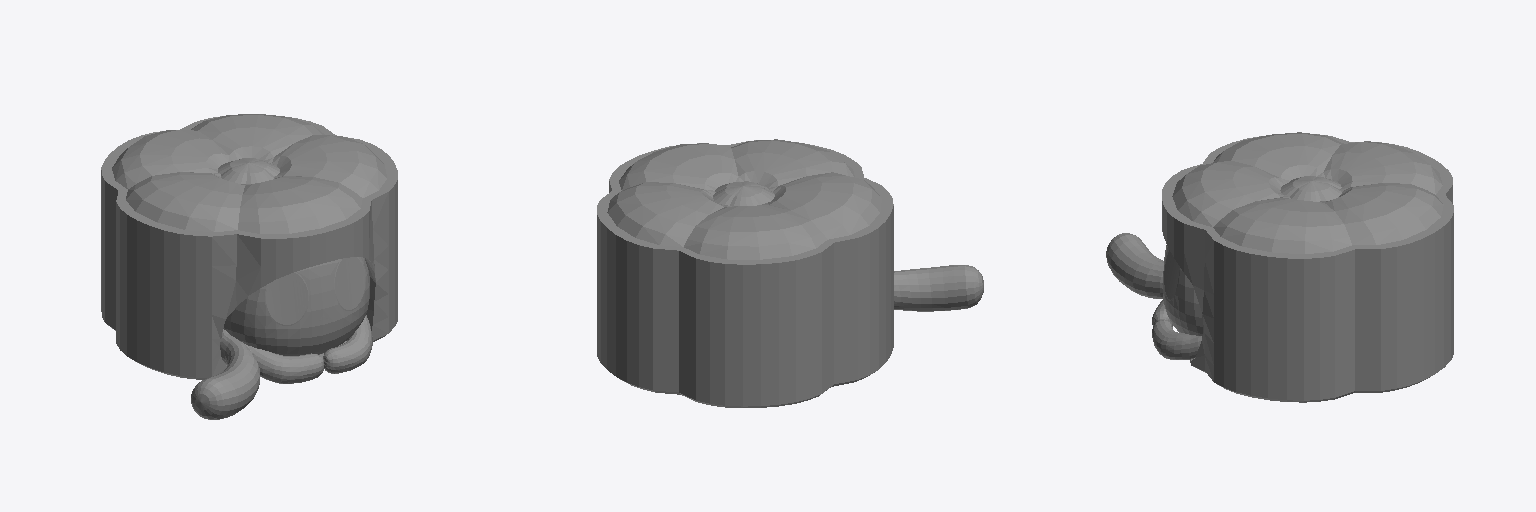
The model's file is Gato_StarRail_Blade.obj.
3 renders of one model, left to right at view 1: azimuth 30°, elevation 25°; view 2: azimuth 150°, elevation 25°; view 3: azimuth 270°, elevation 25°, orthographic.
Visible parts, largest first — view 1: Ruanmadecake_mesh; view 2: Ruanmadecake_mesh; view 3: Ruanmadecake_mesh.
Part boxes in pixels (x1,y1,x2,y2): Ruanmadecake_mesh: (101,114,397,419); Ruanmadecake_mesh: (597,139,983,407); Ruanmadecake_mesh: (1106,132,1453,402).
Bounding box in the file's own units: 2.19 × 1.24 × 2.4.